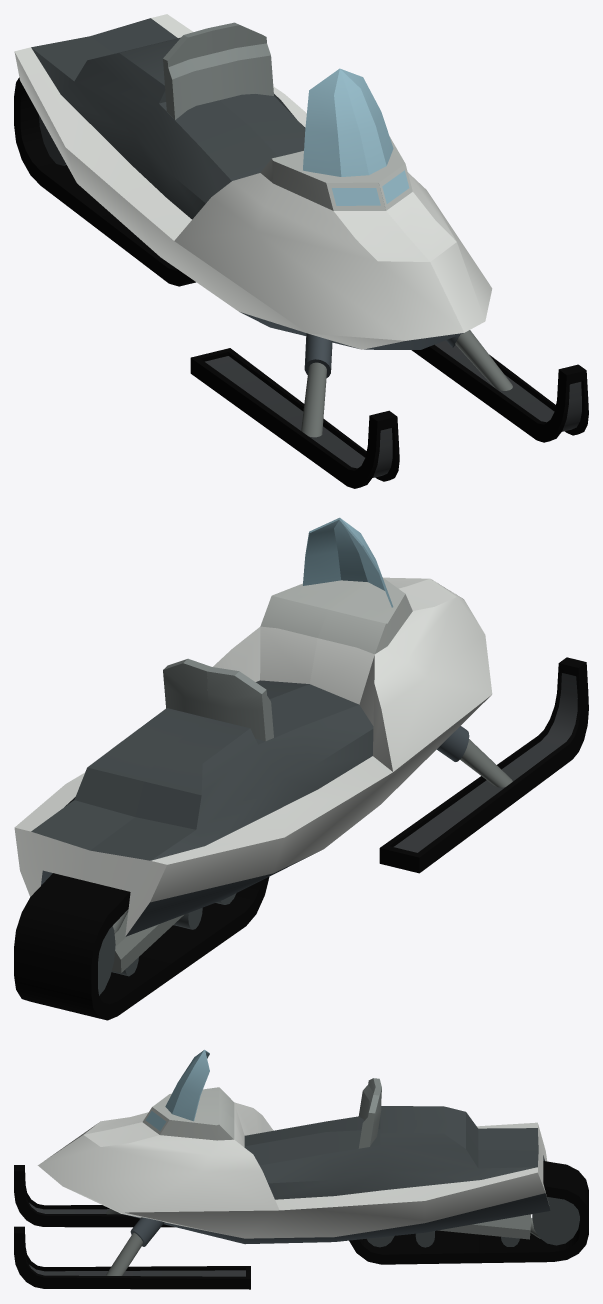
Rendered from Snowmobile.fbx.
3 renders of one model, top to bottom at view 1: azimuth 30°, elevation 25°; view 2: azimuth 150°, elevation 25°; view 3: azimuth 270°, elevation 25°, orthographic. The views are drawn at different scales.
Parts seen in each view (by area): view 1: SnowmobilePrevis; view 2: SnowmobilePrevis; view 3: SnowmobilePrevis.
Boxes of the visible parts, x1,y1,x2,y2 form: SnowmobilePrevis: (14,14,588,488); SnowmobilePrevis: (14,517,588,1020); SnowmobilePrevis: (14,1049,588,1289).
Size of the model in its own units: 121 by 153 by 393.
Materials: 3 (3 with a texture image).
